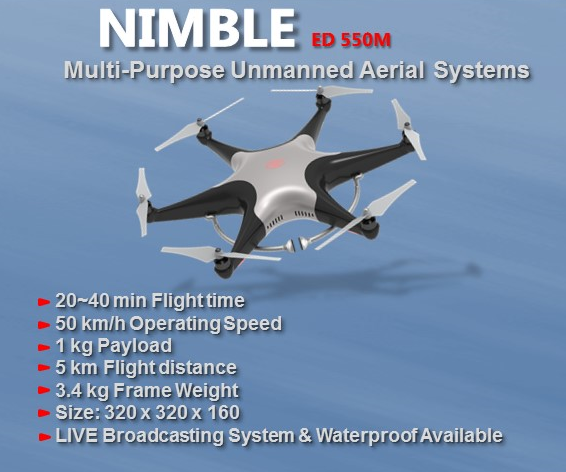drone: (127, 83, 435, 283)
